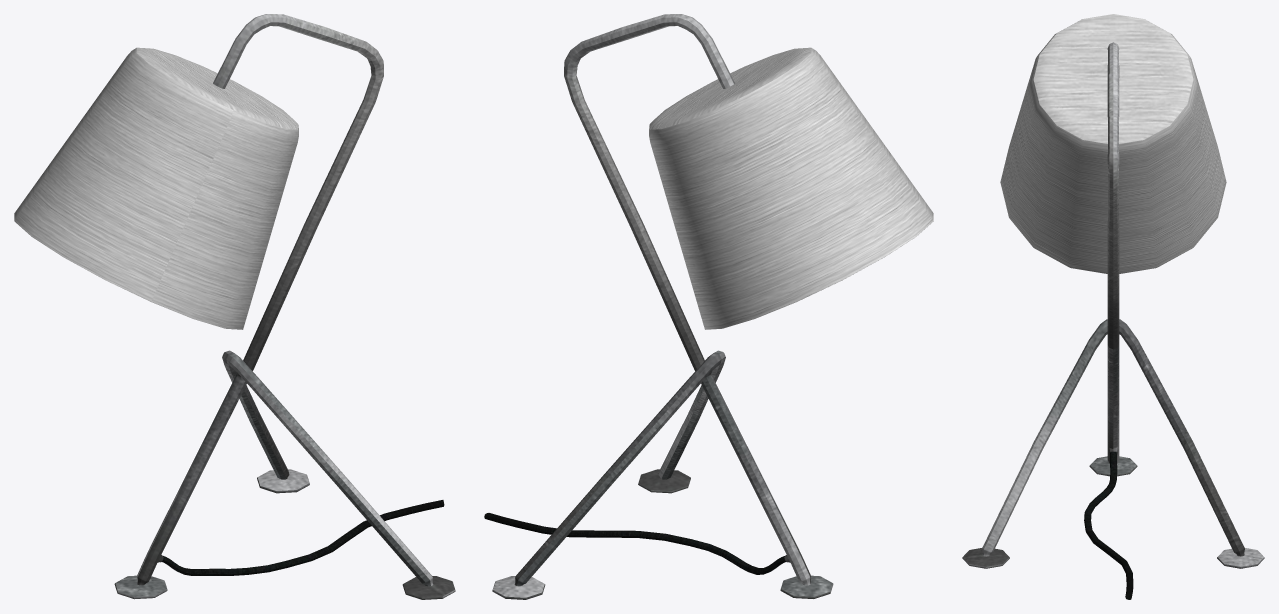
File: lamp.obj
The picture shows the model from 3 angles, left to right: view 1: azimuth 30°, elevation 25°; view 2: azimuth 150°, elevation 25°; view 3: azimuth 270°, elevation 25°; orthographic projection. The views are drawn at different scales.
Parts seen in each view (by area): view 1: Lampe_FerBlanc_AbatJour, Lampe_FerBlanc_Socle, Lampe_FerBlanc_Cable; view 2: Lampe_FerBlanc_AbatJour, Lampe_FerBlanc_Socle, Lampe_FerBlanc_Cable; view 3: Lampe_FerBlanc_AbatJour, Lampe_FerBlanc_Socle, Lampe_FerBlanc_Cable.
Boxes of the visible parts, bbox=[...] form: Lampe_FerBlanc_AbatJour: bbox=[14, 47, 298, 329]; Lampe_FerBlanc_Socle: bbox=[114, 14, 455, 599]; Lampe_FerBlanc_Cable: bbox=[162, 500, 444, 575]; Lampe_FerBlanc_AbatJour: bbox=[649, 47, 933, 329]; Lampe_FerBlanc_Socle: bbox=[492, 14, 833, 599]; Lampe_FerBlanc_Cable: bbox=[484, 513, 785, 574]; Lampe_FerBlanc_AbatJour: bbox=[1000, 14, 1226, 273]; Lampe_FerBlanc_Socle: bbox=[962, 42, 1264, 568]; Lampe_FerBlanc_Cable: bbox=[1084, 451, 1133, 599].
Size of the model in its own units: 12.8 by 15.77 by 9.1.
4 materials, 4 textured.
